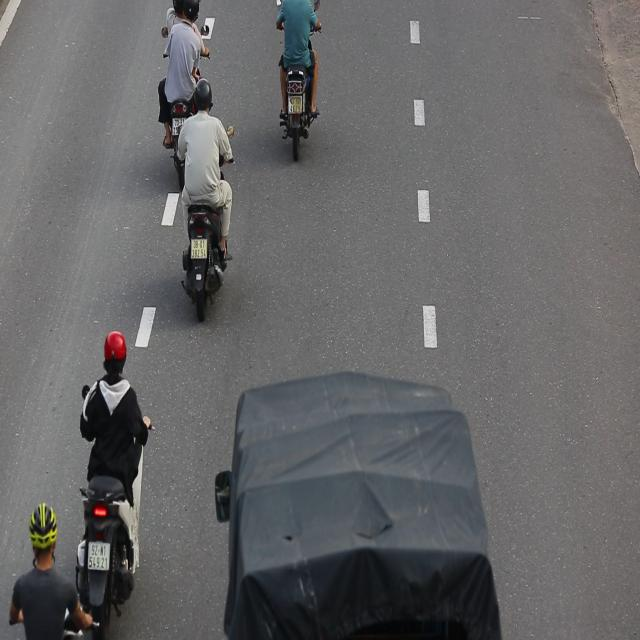motorbike: (77, 323, 156, 639), (176, 75, 233, 328)
